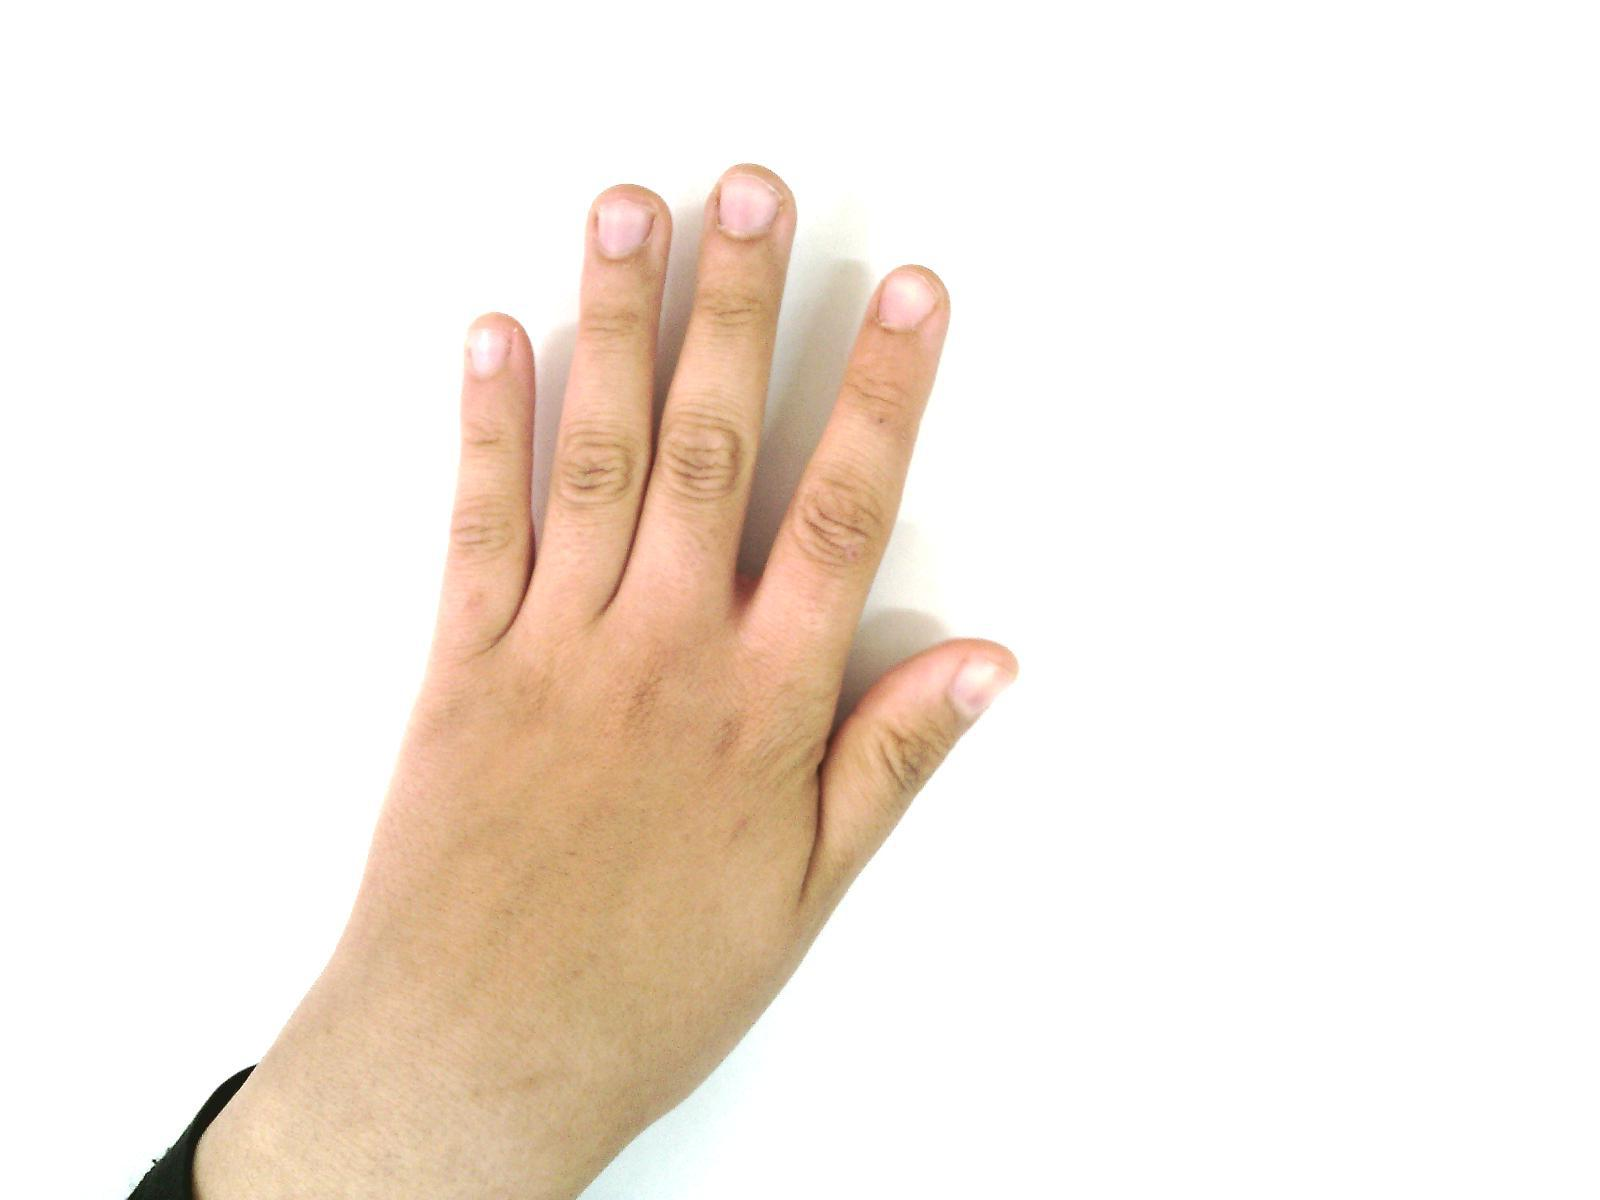hand: (407, 158, 1033, 1100)
